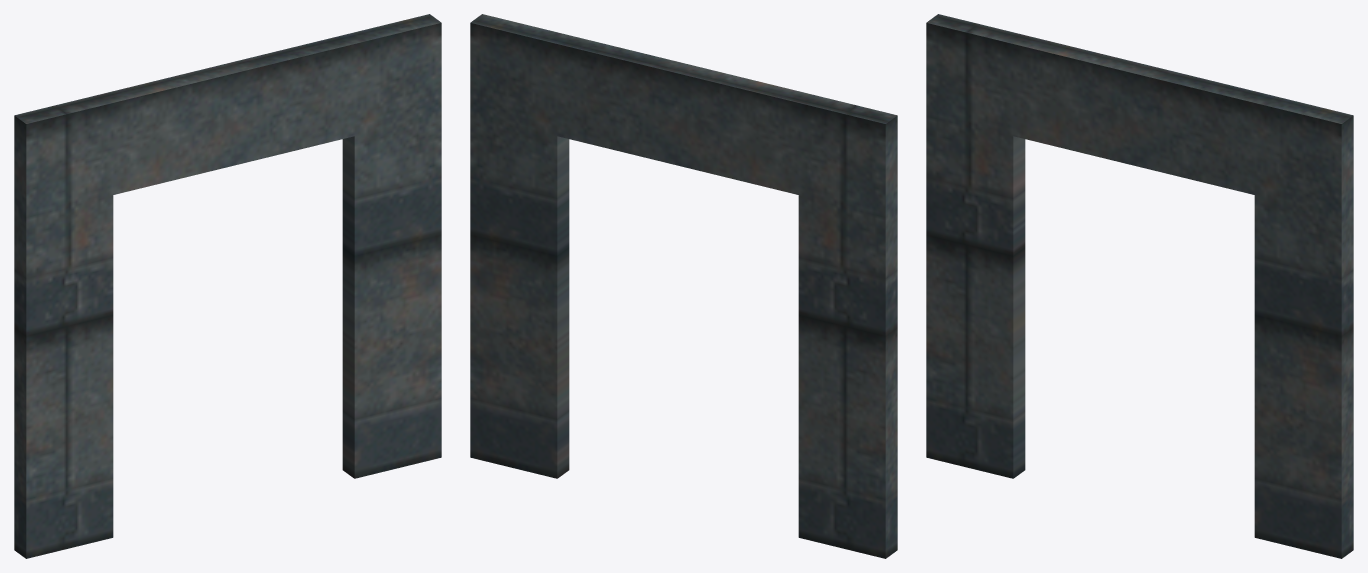
File: 04_Doorway.glb
The picture shows the model from 3 angles, left to right: view 1: azimuth 30°, elevation 25°; view 2: azimuth 150°, elevation 25°; view 3: azimuth 330°, elevation 25°; orthographic projection.
Visible parts, largest first — view 1: 04_Doorway; view 2: 04_Doorway; view 3: 04_Doorway.
Boxes of the visible parts, bbox=[...] form: 04_Doorway: bbox=[14, 14, 441, 558]; 04_Doorway: bbox=[470, 14, 897, 558]; 04_Doorway: bbox=[926, 14, 1353, 558].
Bounding box in the file's own units: 3 × 3 × 0.15.
1 material, 1 textured.
